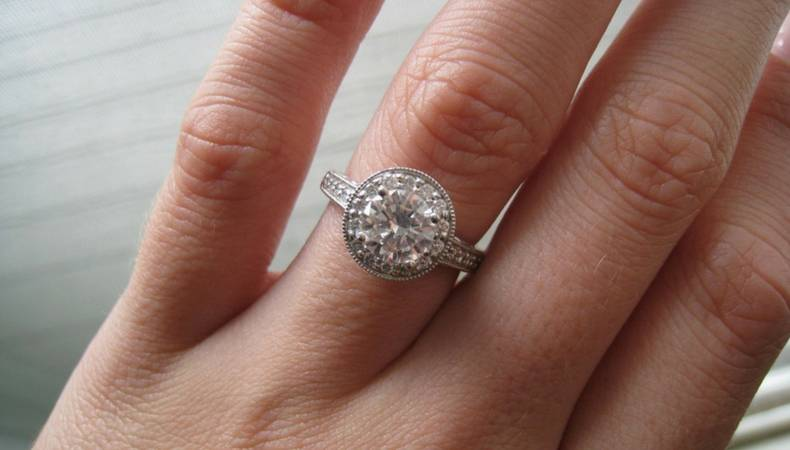Ring: (287, 133, 484, 283)
